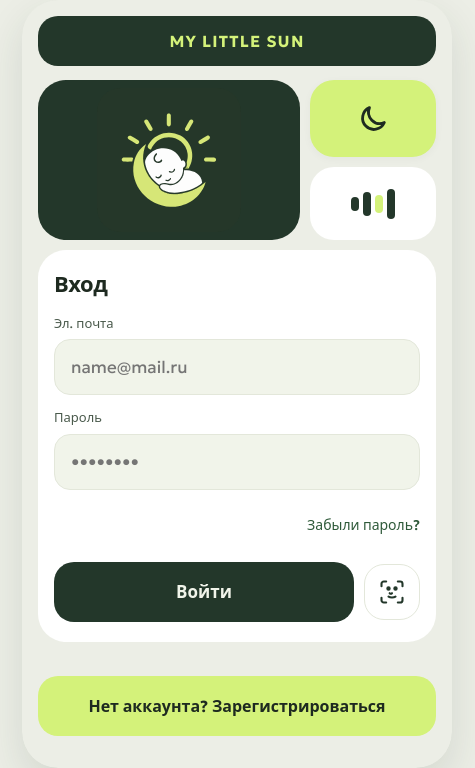
Test: LoginPage Component › displays error when biometric authentication returns null
Click the button with test id "biometric-login-btn" at (392, 592), box [364,564,420,620]
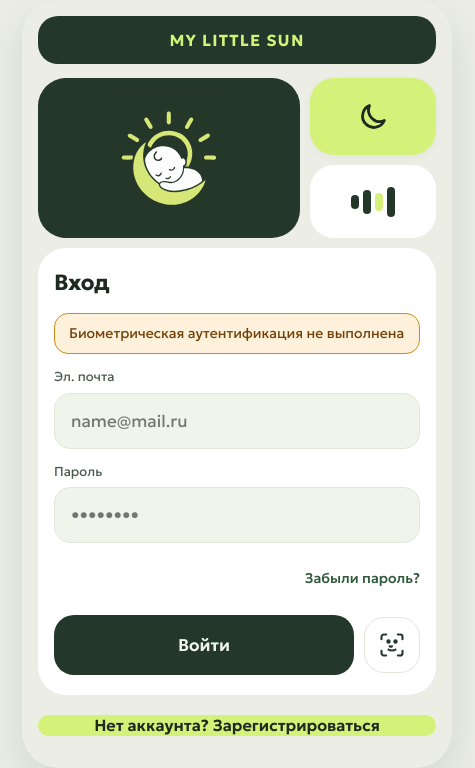
Result: the text with test id "login-error-banner" reads "Биометрическая аутентификация не выполнена" at [69,324,404,342]
